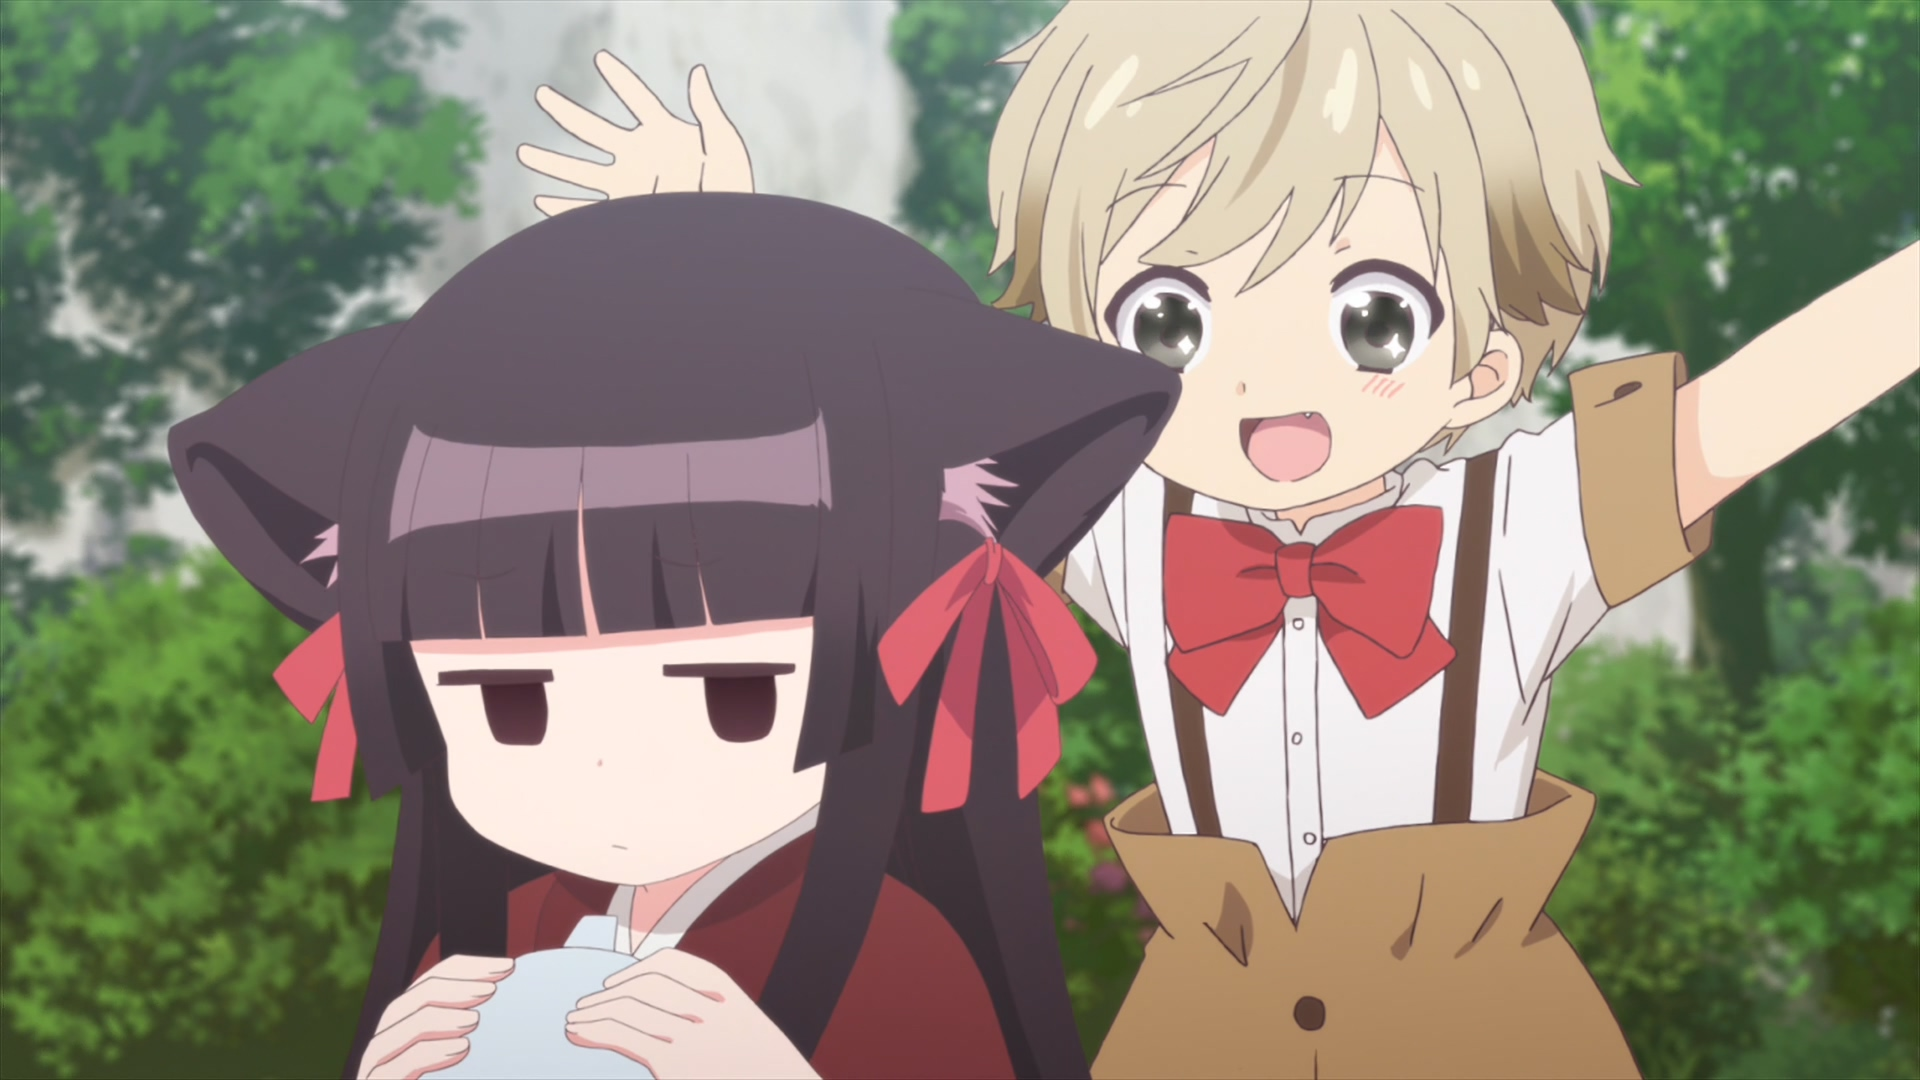其他: (516, 1, 1920, 1080)
樱: (167, 191, 1184, 1080)
